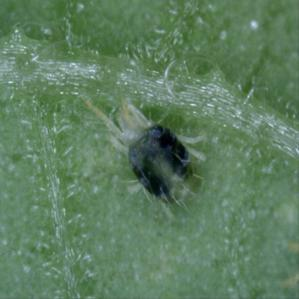spider mite: (75, 72, 221, 226)
